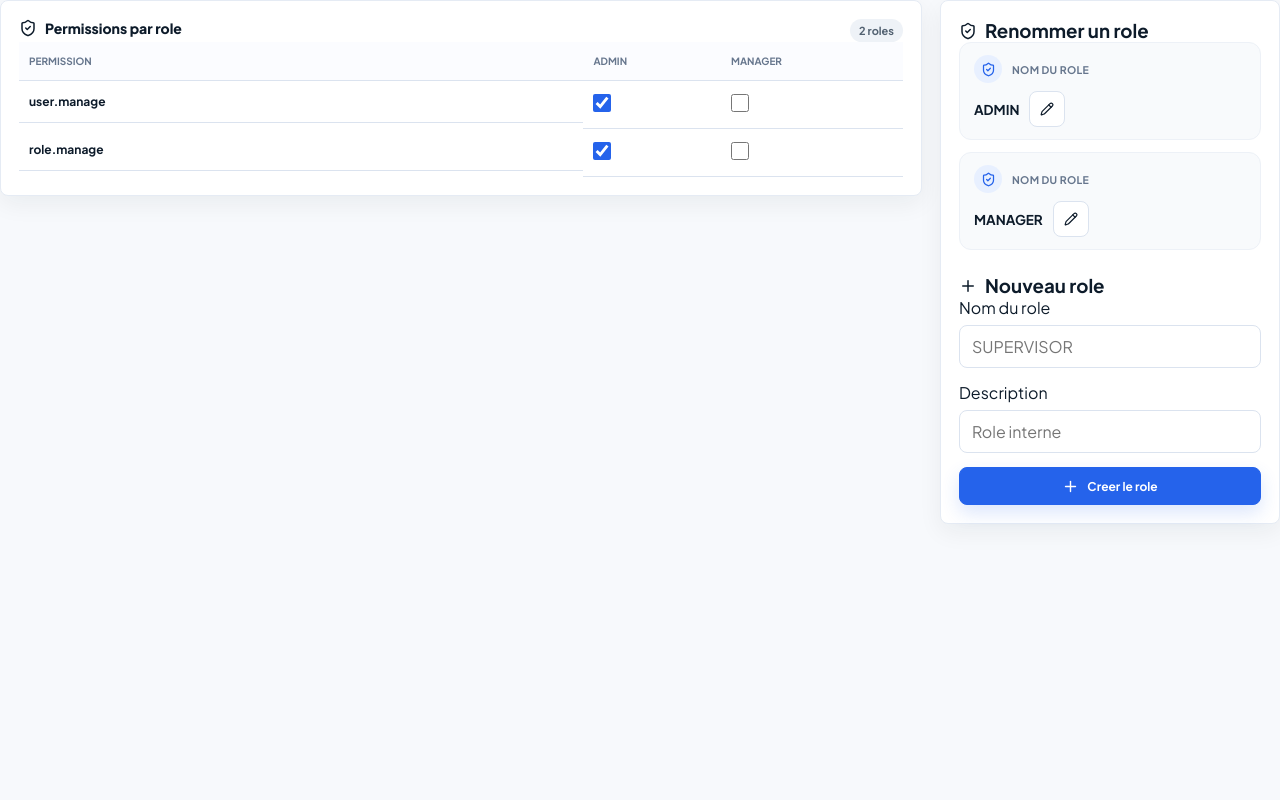
Test: RolesManagement › shows a validation error when creating a role without a name
Click the button "Creer le role" at (1110, 486), box x1=959 y1=467 x2=1261 y2=505
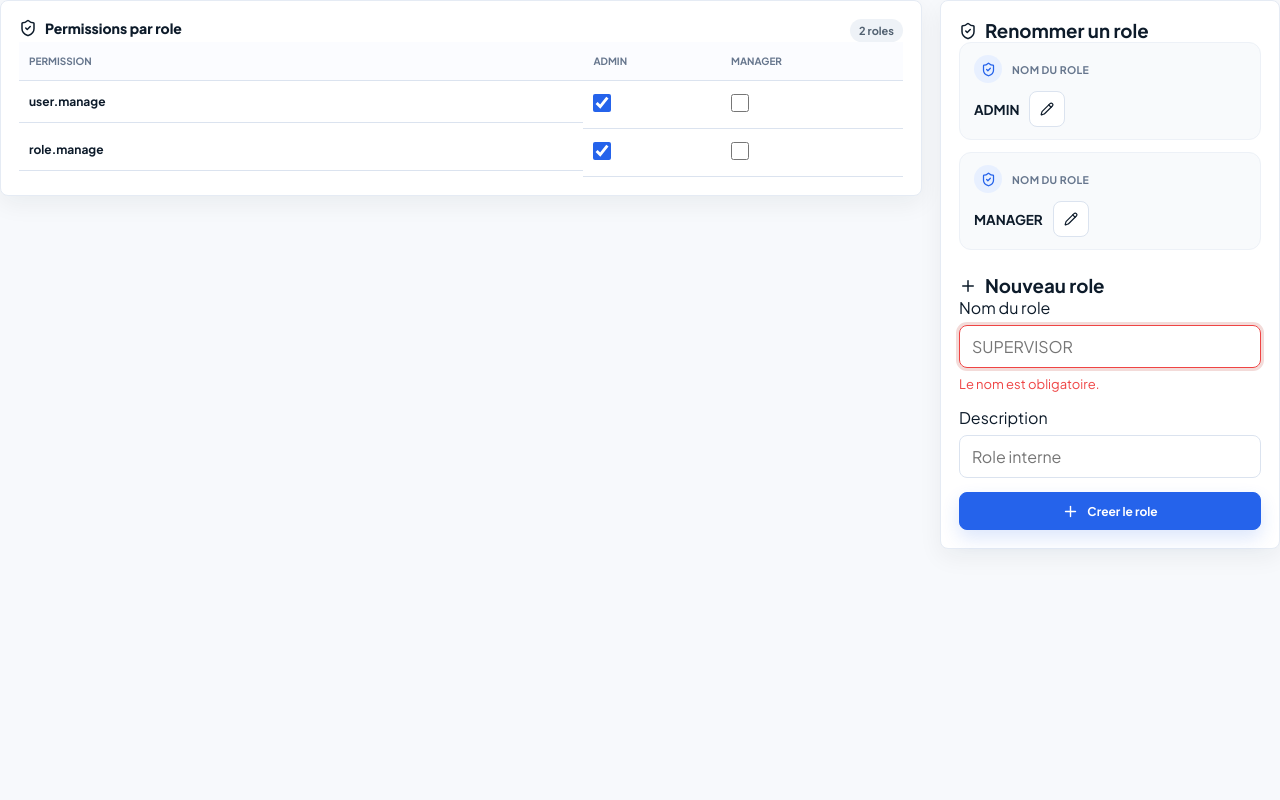
Check: the text "Le nom est obligatoire." is shown, box x1=959 y1=376 x2=1099 y2=392
